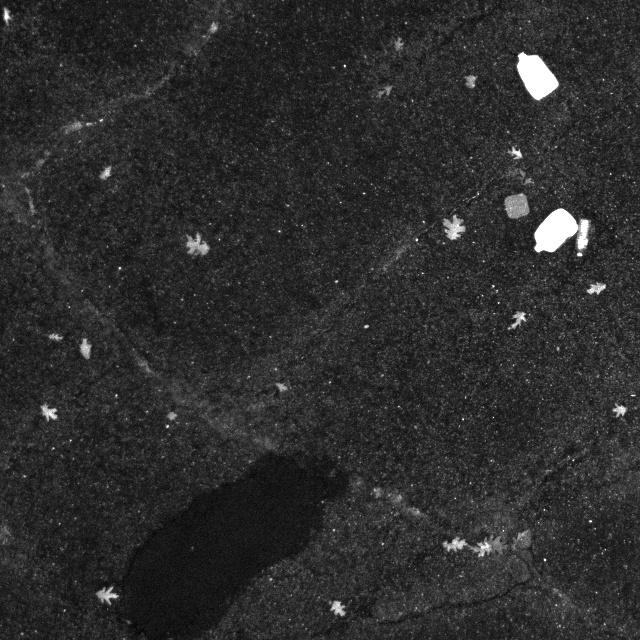bottle: (571, 214, 595, 264)
can: (512, 43, 562, 102), (529, 202, 576, 261)
container: (500, 190, 531, 223)
